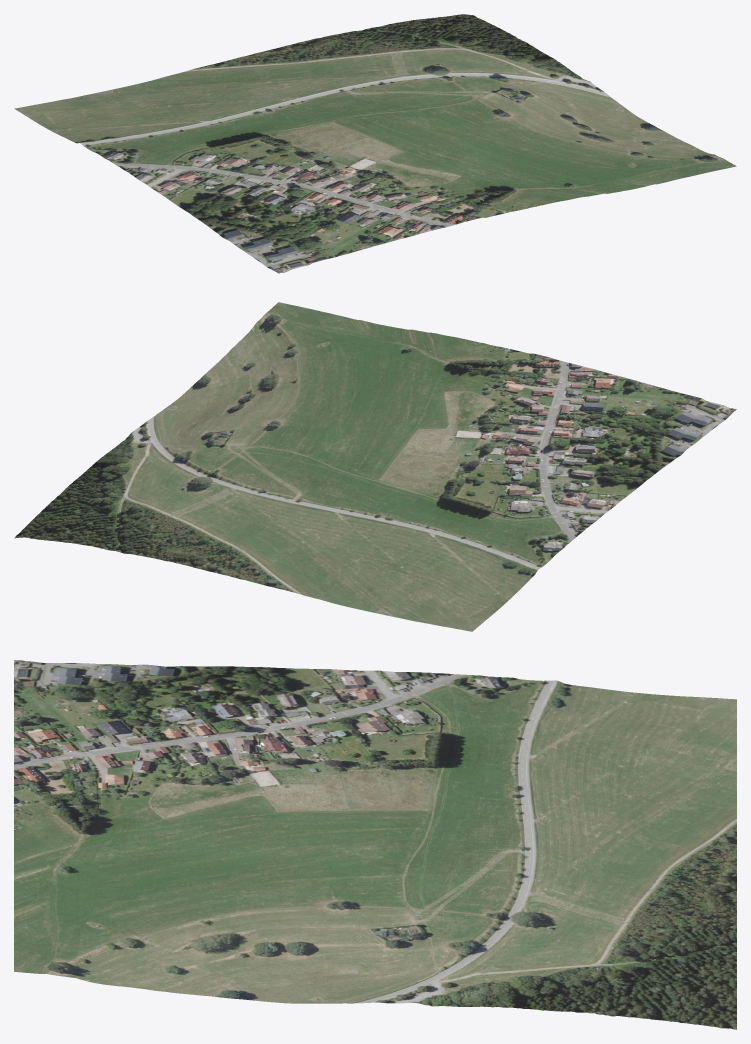
File: terrain_0_2.glb
The picture shows the model from 3 angles, top to bottom: view 1: azimuth 30°, elevation 25°; view 2: azimuth 150°, elevation 25°; view 3: azimuth 270°, elevation 25°; orthographic projection. The views are drawn at different scales.
Parts seen in each view (by area): view 1: geometry_0; view 2: geometry_0; view 3: geometry_0.
Part boxes in pixels (left/top/right/bottom): geometry_0: left=14, top=14, right=736, bottom=273; geometry_0: left=14, top=302, right=736, bottom=631; geometry_0: left=14, top=660, right=736, bottom=1029.
Size of the model in its own units: 499 by 55.5 by 499.
Materials: 1 (1 with a texture image).
